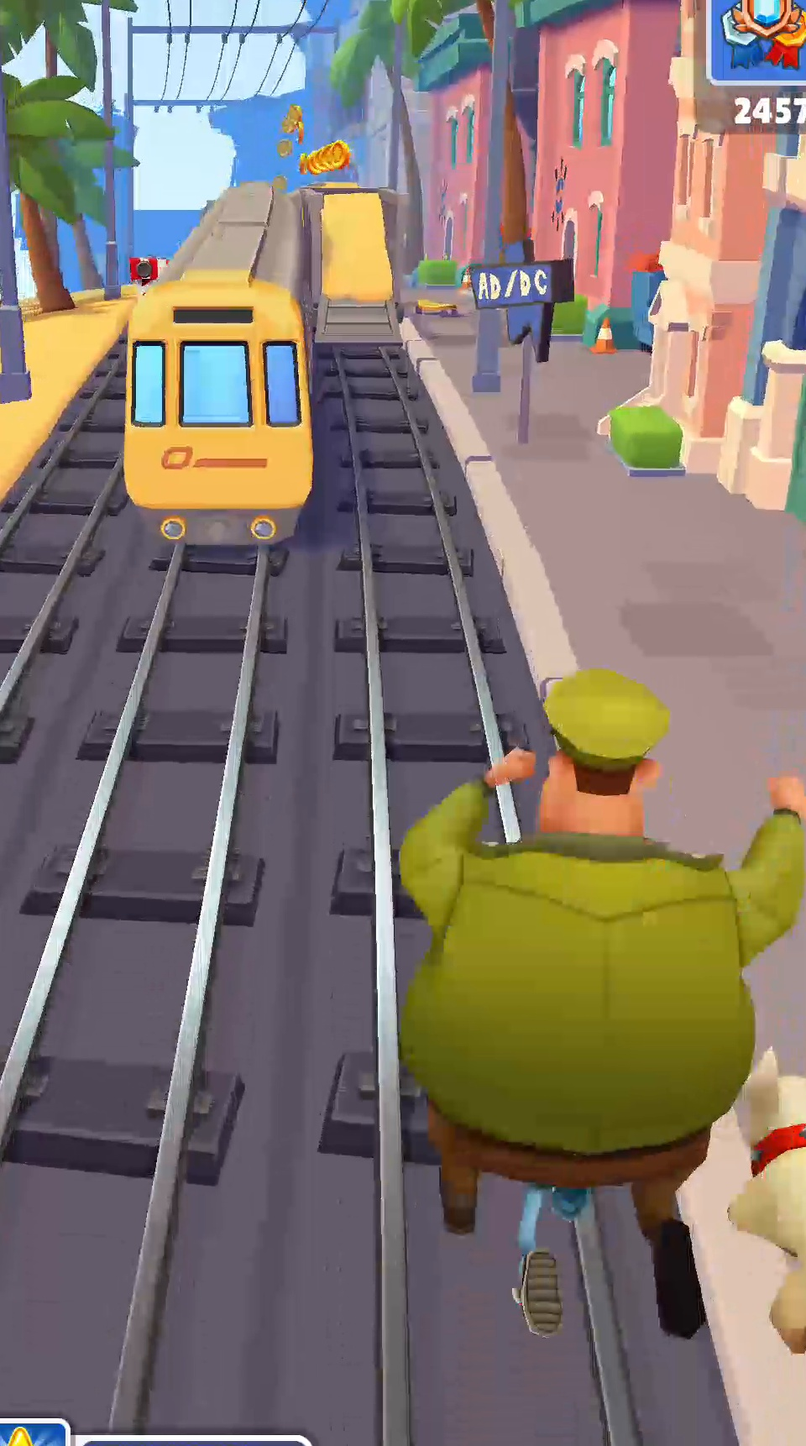climber: (303, 186, 402, 343)
roll blocker: (130, 256, 167, 291)
train: (123, 181, 325, 548)
